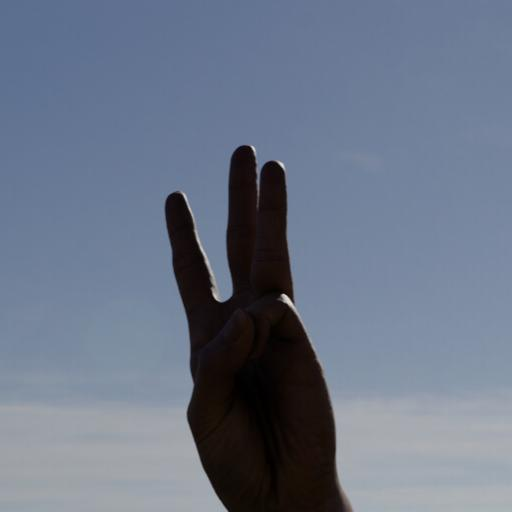W: (150, 137, 346, 499)
